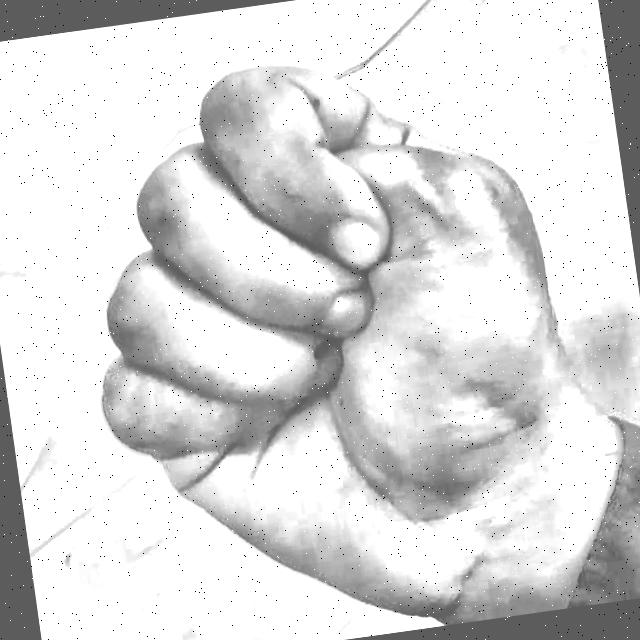To: (38, 1, 614, 640)
